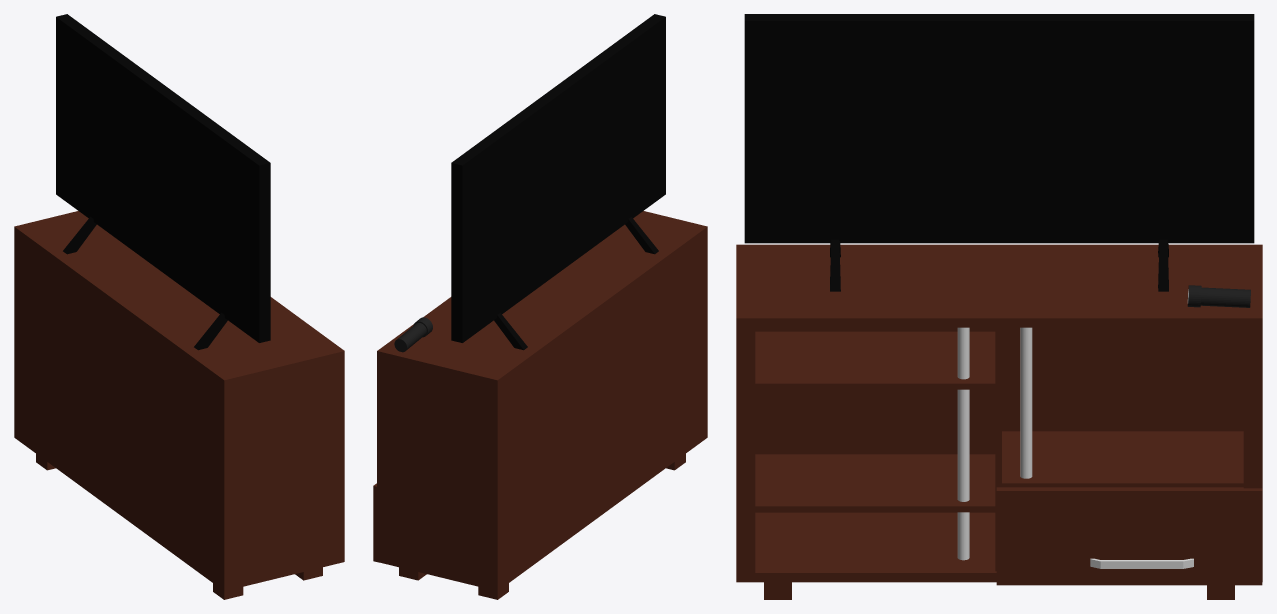
File: Mueble Para TV.dae
The picture shows the model from 3 angles, left to right: view 1: azimuth 30°, elevation 25°; view 2: azimuth 150°, elevation 25°; view 3: azimuth 270°, elevation 25°; orthographic projection. The views are drawn at different scales.
Visible parts, largest first — view 1: Cubo, Cubo.001; view 2: Cubo, Cubo.001, Cilindro.001; view 3: Cubo, Cubo.001, Cilindro, Cilindro.001.
Part boxes in pixels (x1,y1,x2,y2): Cubo: (14,211,344,599); Cubo.001: (56,14,270,350); Cubo: (373,211,707,599); Cubo.001: (451,14,665,350); Cilindro.001: (394,317,432,352); Cubo: (736,244,1262,599); Cubo.001: (744,14,1254,291); Cilindro: (957,327,1193,568); Cilindro.001: (1187,285,1250,307).
Size of the model in its own units: 2.27 by 6.41 by 7.29.
